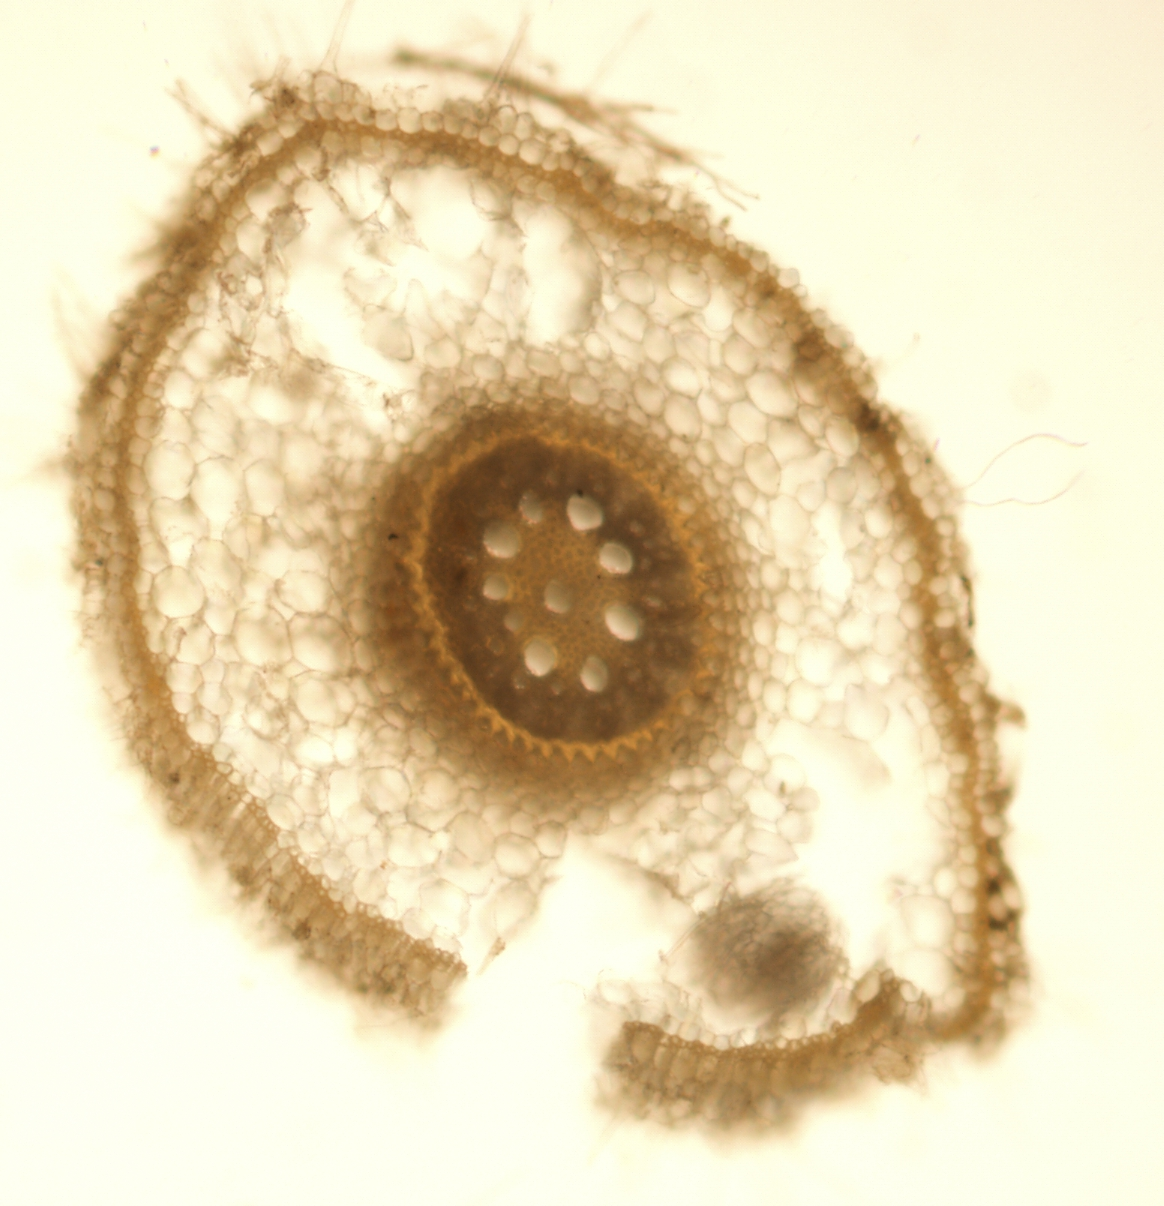lm: (481, 520, 523, 558), (604, 601, 643, 641), (566, 493, 604, 531), (523, 636, 558, 677), (542, 578, 576, 614), (579, 655, 611, 693), (598, 542, 633, 574), (518, 489, 545, 525), (503, 604, 530, 633), (481, 574, 510, 599)
